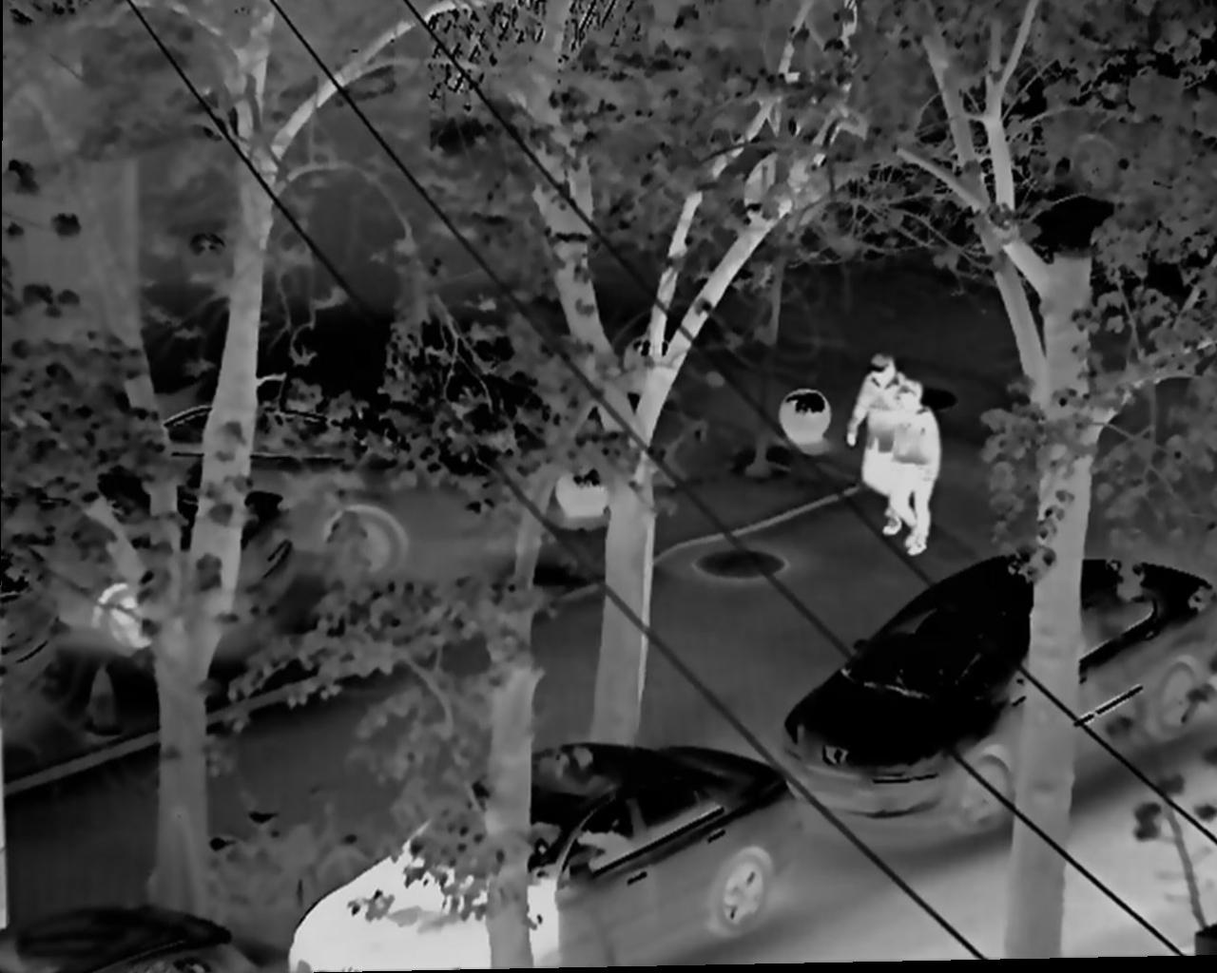person: (845, 343, 904, 537), (882, 374, 942, 554)
